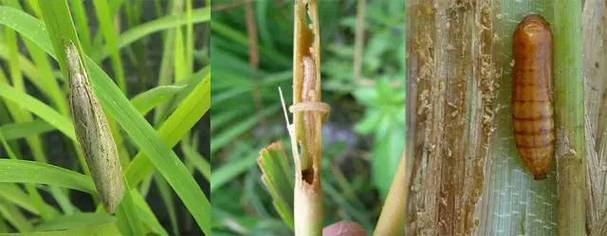Crambidae: (57, 32, 138, 217)
